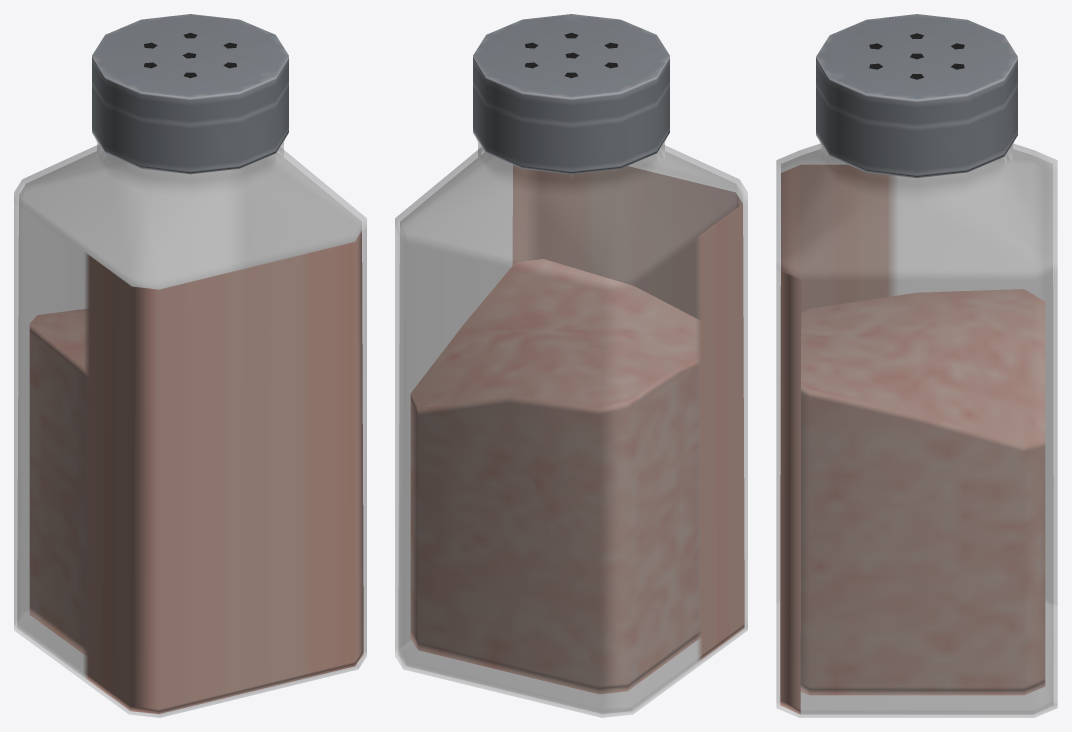
The model's file is pi_spice05.gltf.
The picture shows the model from 3 angles, left to right: view 1: azimuth 30°, elevation 25°; view 2: azimuth 150°, elevation 25°; view 3: azimuth 270°, elevation 25°; orthographic projection. The views are drawn at different scales.
Visible parts, largest first — view 1: um_pi_spice05_model_pi_spice05_modelShape:pi_spice05_body01_, um_pi_spice05_model_pi_spice05_modelShape:pi_spice05_body01; view 2: um_pi_spice05_model_pi_spice05_modelShape:pi_spice05_body01_, um_pi_spice05_model_pi_spice05_modelShape:pi_spice05_body01; view 3: um_pi_spice05_model_pi_spice05_modelShape:pi_spice05_body01_, um_pi_spice05_model_pi_spice05_modelShape:pi_spice05_body01.
Boxes of the visible parts, x1=… form: um_pi_spice05_model_pi_spice05_modelShape:pi_spice05_body01_: x1=14, y1=140, x2=366, y2=717; um_pi_spice05_model_pi_spice05_modelShape:pi_spice05_body01: x1=29, y1=14, x2=288, y2=655; um_pi_spice05_model_pi_spice05_modelShape:pi_spice05_body01_: x1=395, y1=140, x2=747, y2=717; um_pi_spice05_model_pi_spice05_modelShape:pi_spice05_body01: x1=410, y1=14, x2=700, y2=694; um_pi_spice05_model_pi_spice05_modelShape:pi_spice05_body01_: x1=776, y1=143, x2=1057, y2=717; um_pi_spice05_model_pi_spice05_modelShape:pi_spice05_body01: x1=800, y1=14, x2=1045, y2=695.
Bounding box in the file's own units: 0.0411 × 0.097 × 0.0411.
2 materials, 2 textured.
